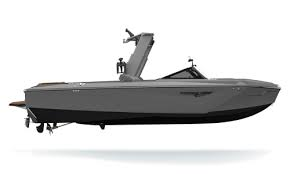boat: (8, 29, 282, 134)
